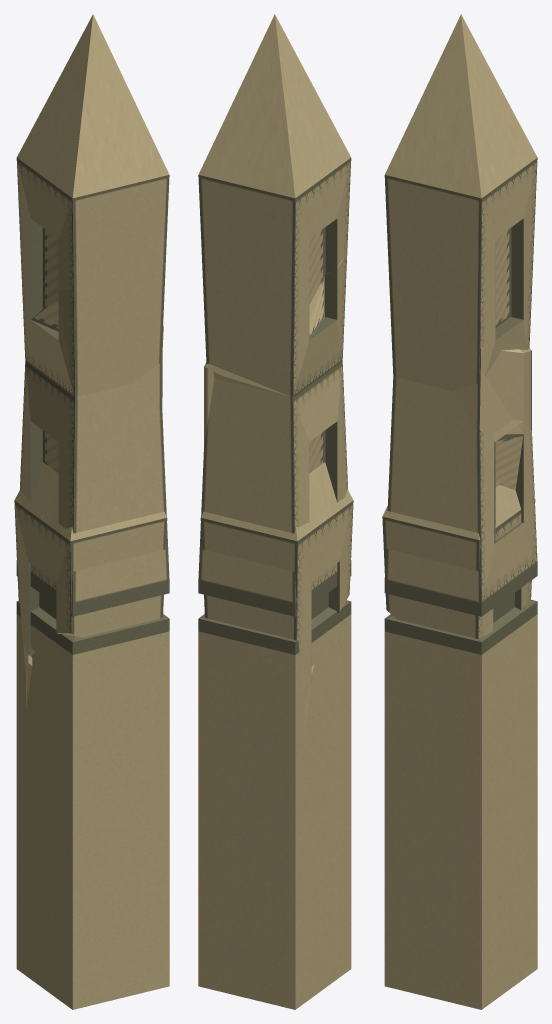
The model's file is Ruins_10.fbx.
3 views of the same model, side by side, from view 1: azimuth 30°, elevation 25°; view 2: azimuth 150°, elevation 25°; view 3: azimuth 330°, elevation 25° (orthographic).
Visible parts, largest first — view 1: Ruins_10, Ruins_10_Broken_1, Ruins_10_Broken; view 2: Ruins_10, Ruins_10_Broken, Ruins_10_Broken_1; view 3: Ruins_10, Ruins_10_Broken, Ruins_10_Broken_1.
Boxes of the visible parts, box(x1,y1,x2,y2) form: Ruins_10: box(16, 14, 169, 1009); Ruins_10_Broken_1: box(14, 462, 167, 708); Ruins_10_Broken: box(16, 290, 169, 603); Ruins_10: box(198, 14, 351, 1009); Ruins_10_Broken: box(198, 252, 347, 603); Ruins_10_Broken_1: box(200, 462, 353, 735); Ruins_10: box(384, 14, 537, 1009); Ruins_10_Broken: box(384, 347, 536, 603); Ruins_10_Broken_1: box(382, 485, 535, 638).
Bounding box in the file's own units: 205 × 1900 × 200.
1 material, 1 textured.
